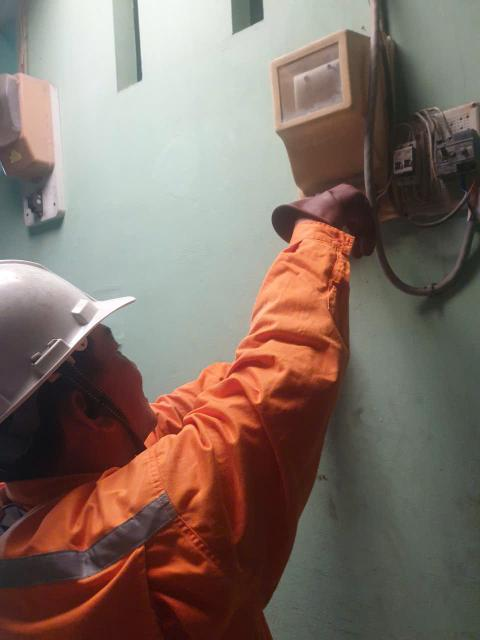gloves: (256, 177, 378, 298)
helmet: (0, 232, 128, 453)
